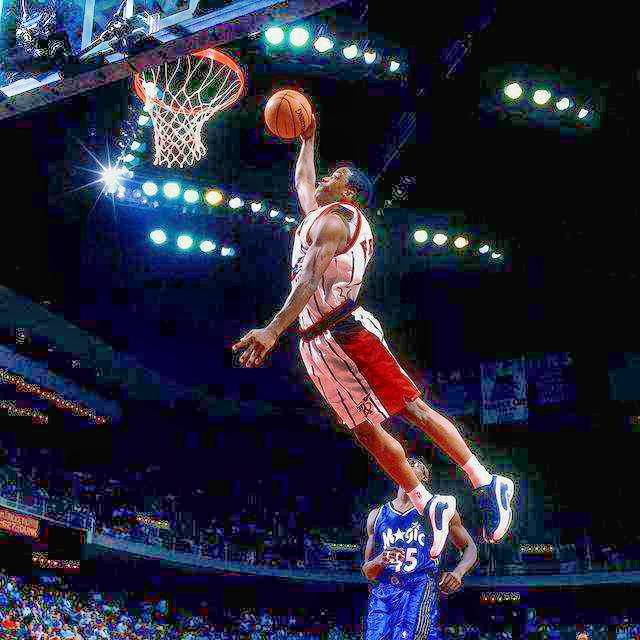board: (265, 89, 313, 139)
rim: (133, 47, 246, 166)
